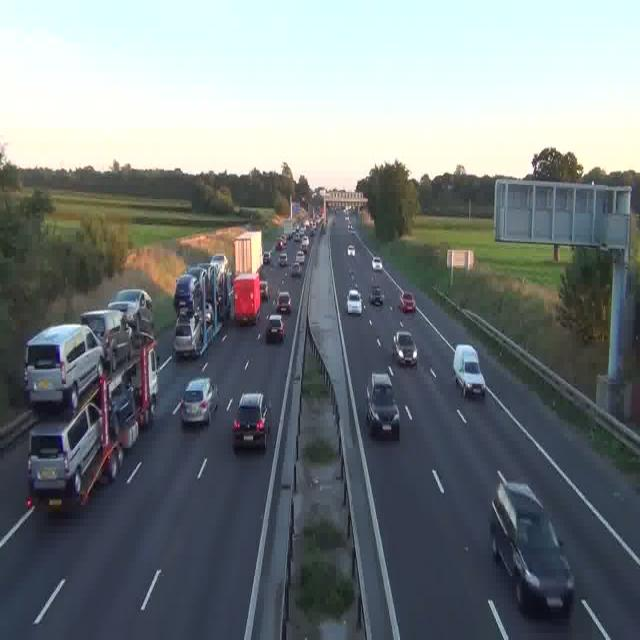car: (490, 481, 574, 619), (24, 324, 103, 410), (82, 309, 132, 370), (366, 371, 400, 438), (110, 288, 154, 339), (233, 393, 270, 451), (181, 378, 217, 426), (452, 345, 485, 396), (173, 273, 201, 318), (392, 331, 416, 366), (265, 313, 285, 342), (210, 254, 228, 281), (347, 289, 363, 314), (276, 292, 292, 314), (400, 291, 415, 312), (370, 284, 383, 305), (290, 262, 302, 278), (371, 256, 382, 271), (278, 252, 287, 266), (296, 252, 305, 266), (348, 244, 356, 257)
truck: (26, 340, 158, 512), (172, 266, 228, 357), (231, 273, 263, 323), (236, 230, 264, 286)
